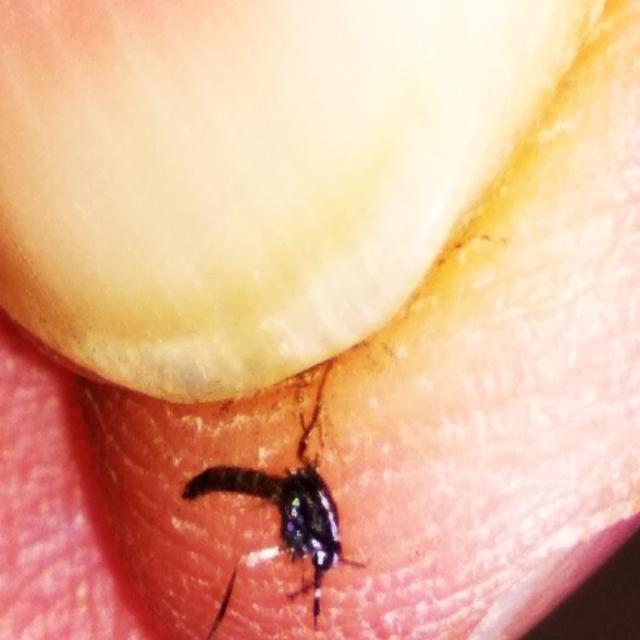albopictus: (178, 315, 397, 619)
